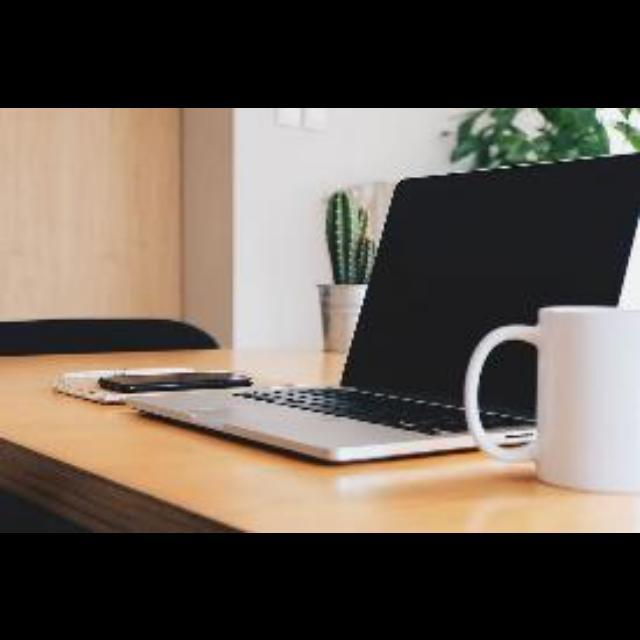Phone: (101, 366, 252, 392)
